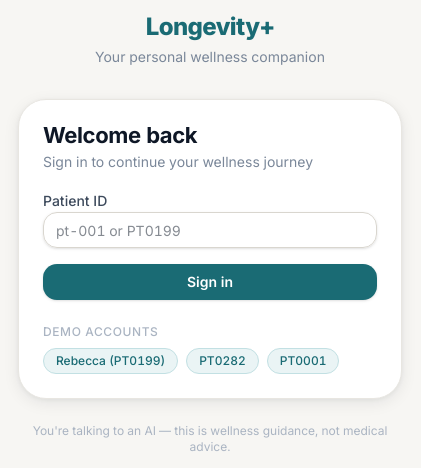
LoginPage › autofills patient ID when a demo shortcut is clicked
Click the button "Rebecca (PT0199)" at (111, 361), box [43,348,178,374]
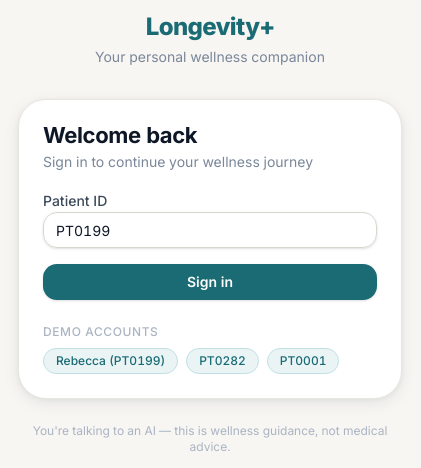
Check: the field with placeholder "pt-001 or PT0199" is not empty, box [43,212,377,248]
